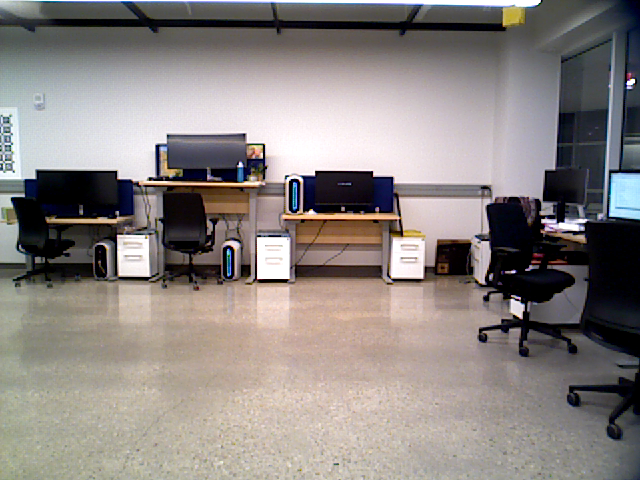painting4: (1, 107, 22, 180)
